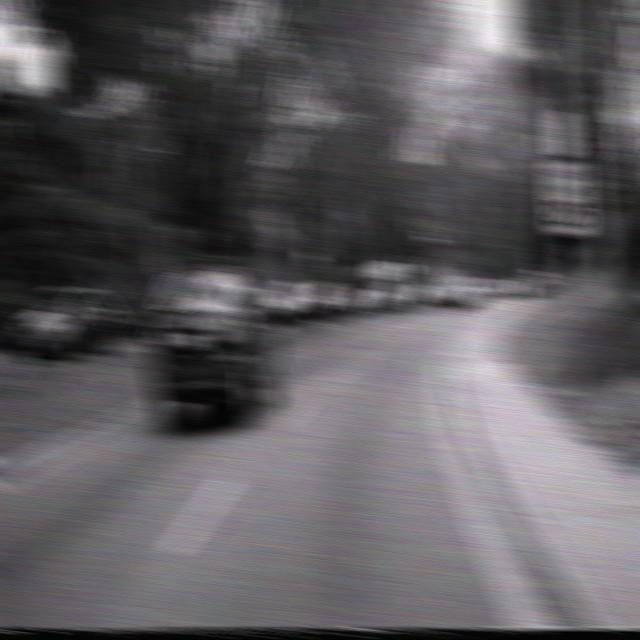speedLimit25: (544, 158, 589, 237)
